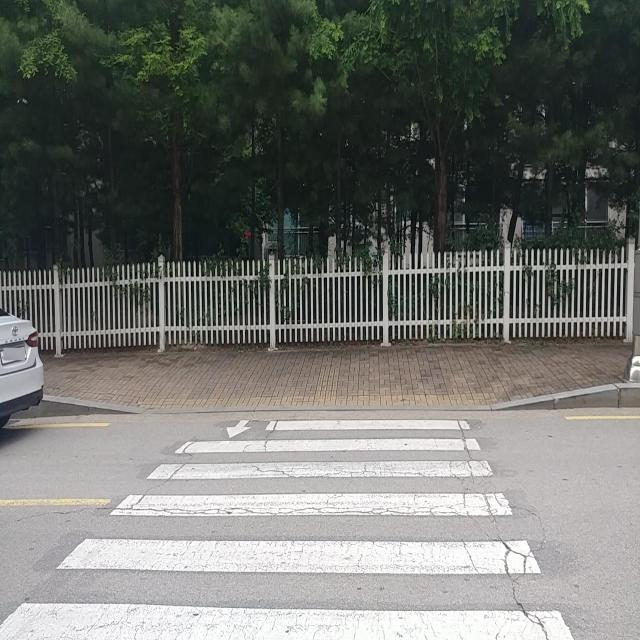횡단보도: (2, 414, 568, 632)
